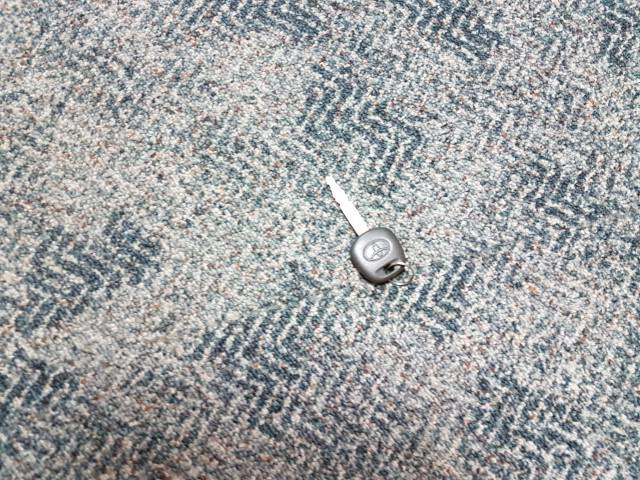key: (326, 175, 405, 285)
